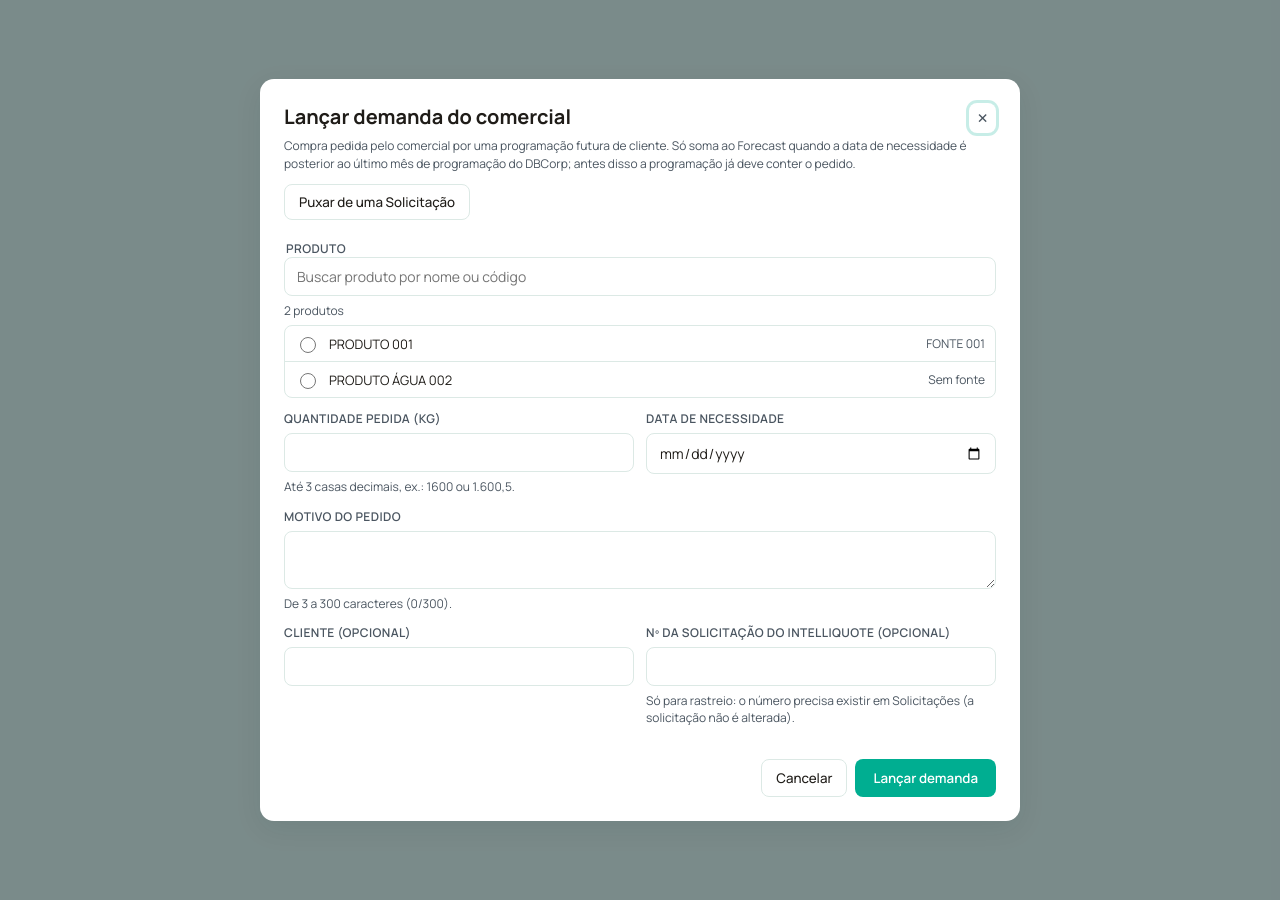
Test: ForecastDemandaComercialModal - lancar › envio vazio: erros por campo em portugues, aria-invalid e foco no primeiro campo com erro; nada e enviado
The width and height of the screenshot is (1280, 900).
Expected: the text "2 produtos" is shown, [284,302,344,319]
Click the button "Lançar demanda". click: (926, 778)
box: [855,759,996,797]
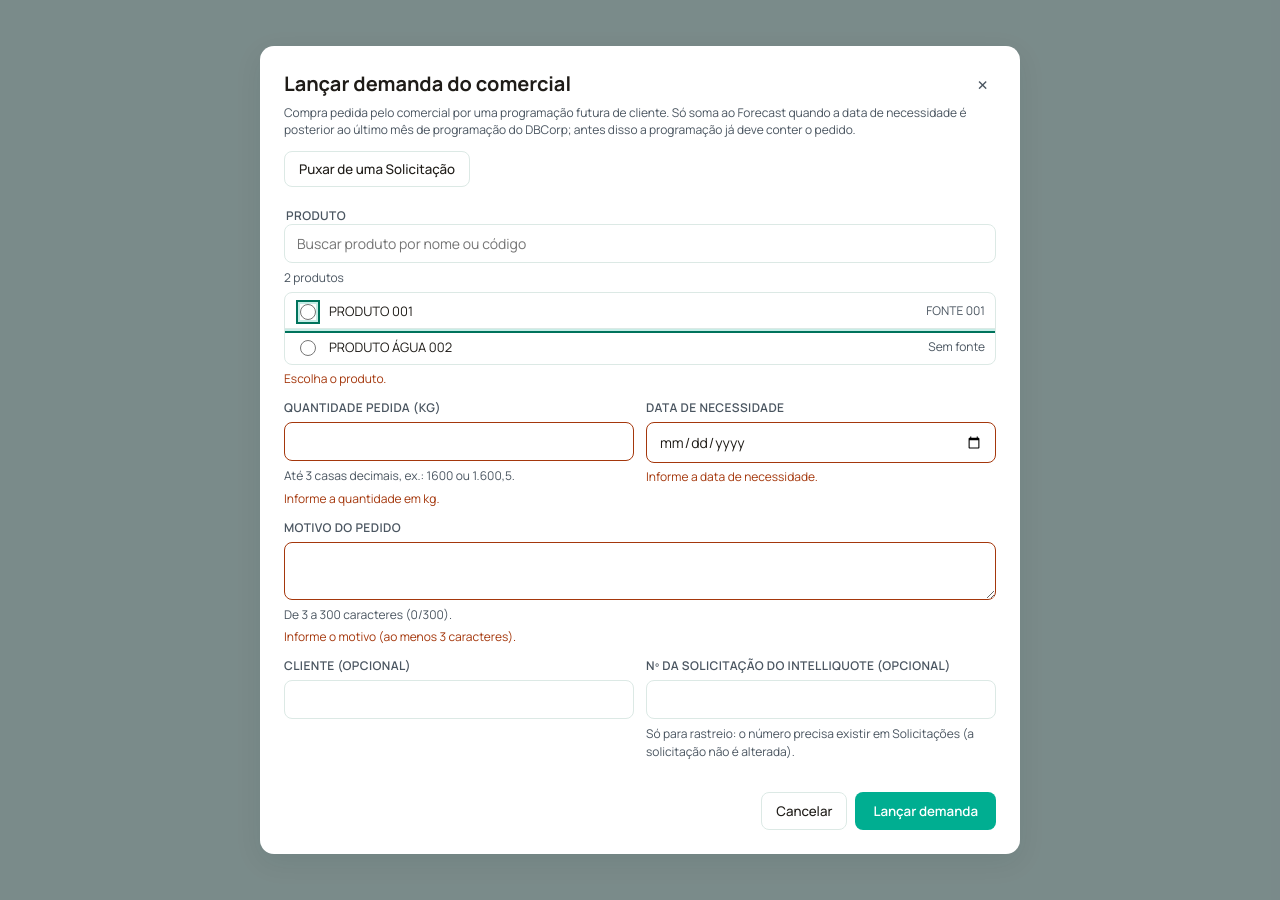
Expected: the text "Escolha o produto." is shown, [284,370,386,387]
Expected: the text "Informe a quantidade em kg." is shown, [284,490,439,507]
Expected: the text "Informe a data de necessidade." is shown, [646,468,818,485]
Type "1.600" into the field labelled "Quantidade pedida (kg)". click: (459, 442)
box: [284,422,634,461]
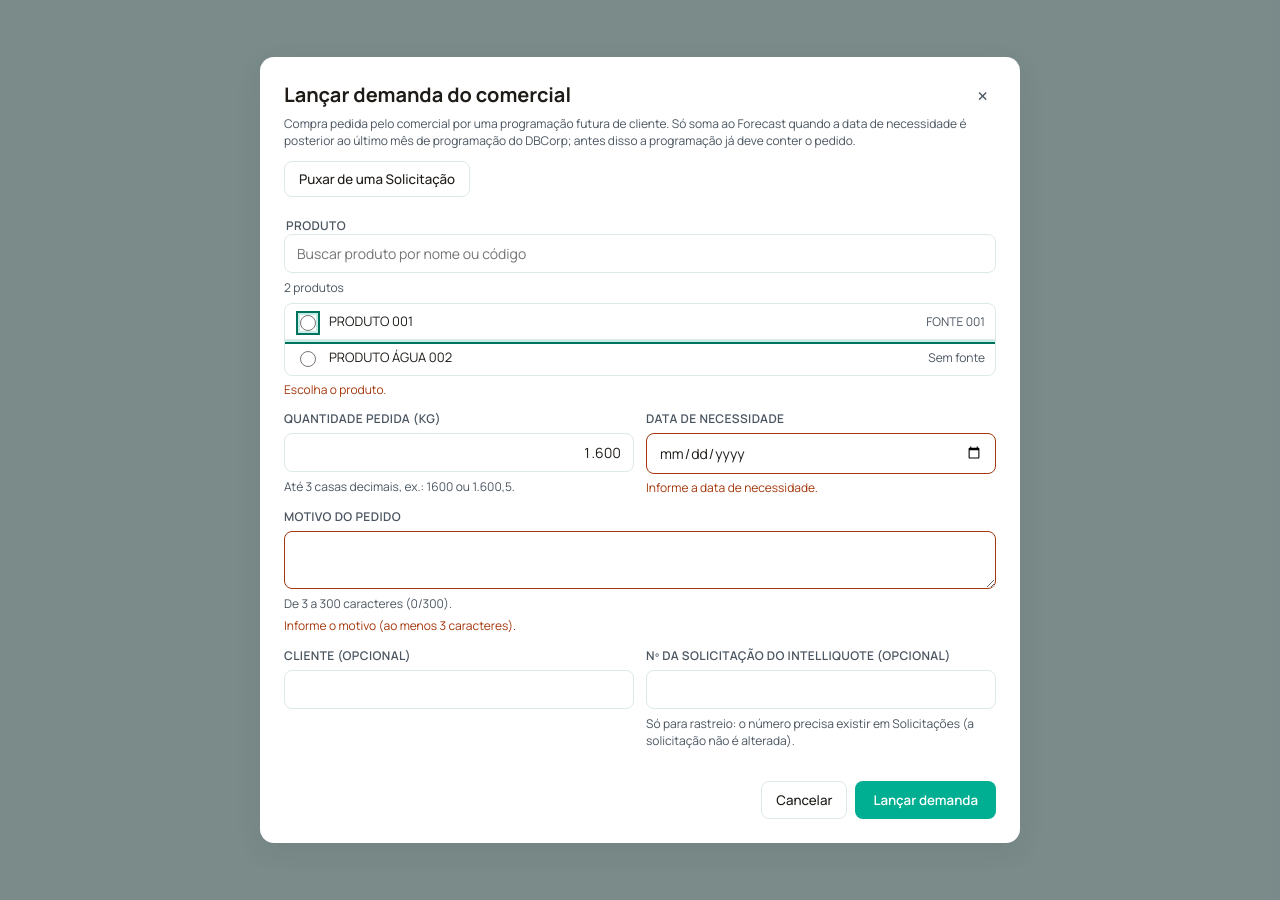
Expected: the text "Informe a quantidade em kg." is gone
